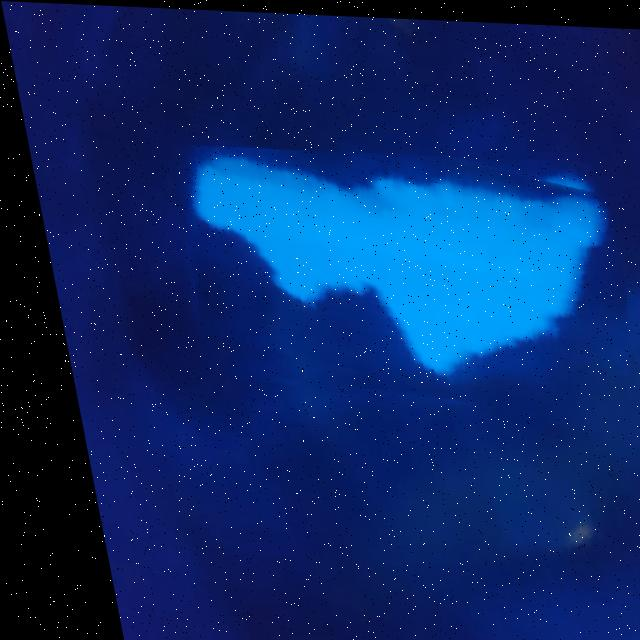thermocoal: (159, 142, 635, 420)
